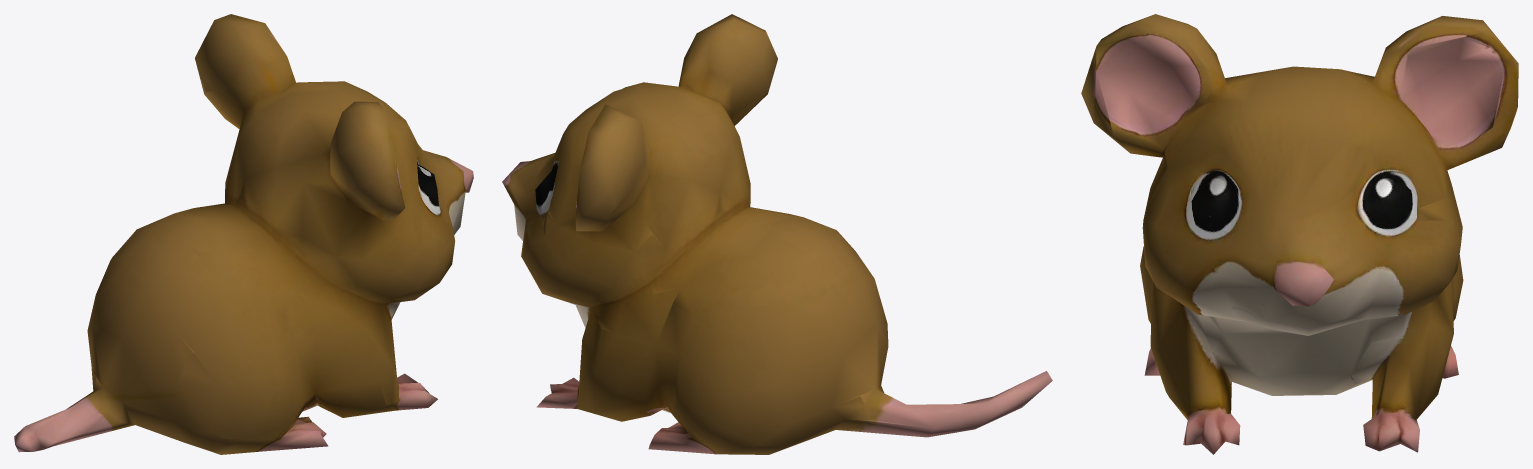
The model's file is toad-thing-haystack-mouse.glb.
The picture shows the model from 3 angles, left to right: view 1: azimuth 30°, elevation 25°; view 2: azimuth 150°, elevation 25°; view 3: azimuth 270°, elevation 25°; orthographic projection. The views are drawn at different scales.
Visible parts, largest first — view 1: lo; view 2: lo; view 3: lo.
Part boxes in pixels (x1=…): lo: x1=14, y1=14, x2=473, y2=454; lo: x1=502, y1=14, x2=1052, y2=454; lo: x1=1081, y1=14, x2=1518, y2=454.
Size of the model in its own units: 0.08 by 0.0502 by 0.0511.
Materials: 1 (1 with a texture image).
